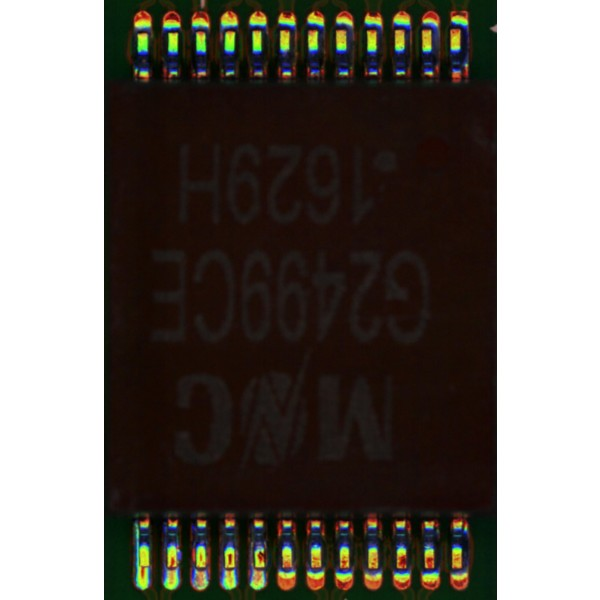Bad_podu: (195, 563, 207, 576), (254, 563, 265, 575), (225, 563, 235, 576), (139, 562, 146, 577), (168, 564, 176, 575)
Bad_qiaojiao: (133, 522, 139, 567), (248, 540, 255, 567)
